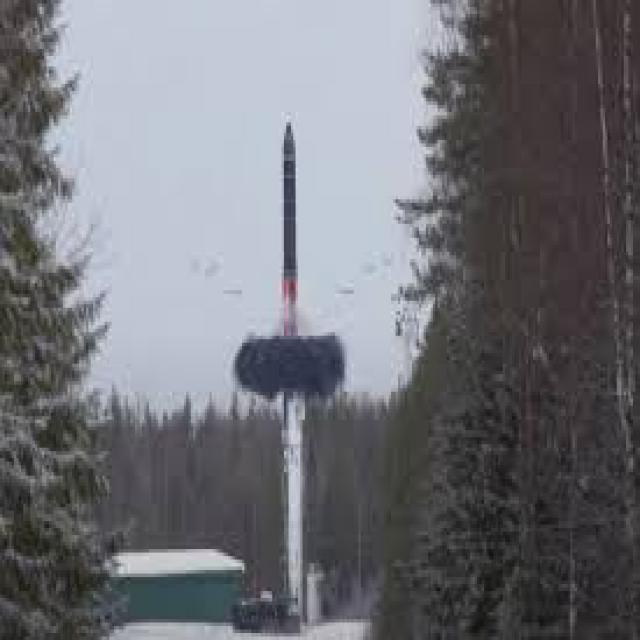missile: (278, 116, 304, 306)
